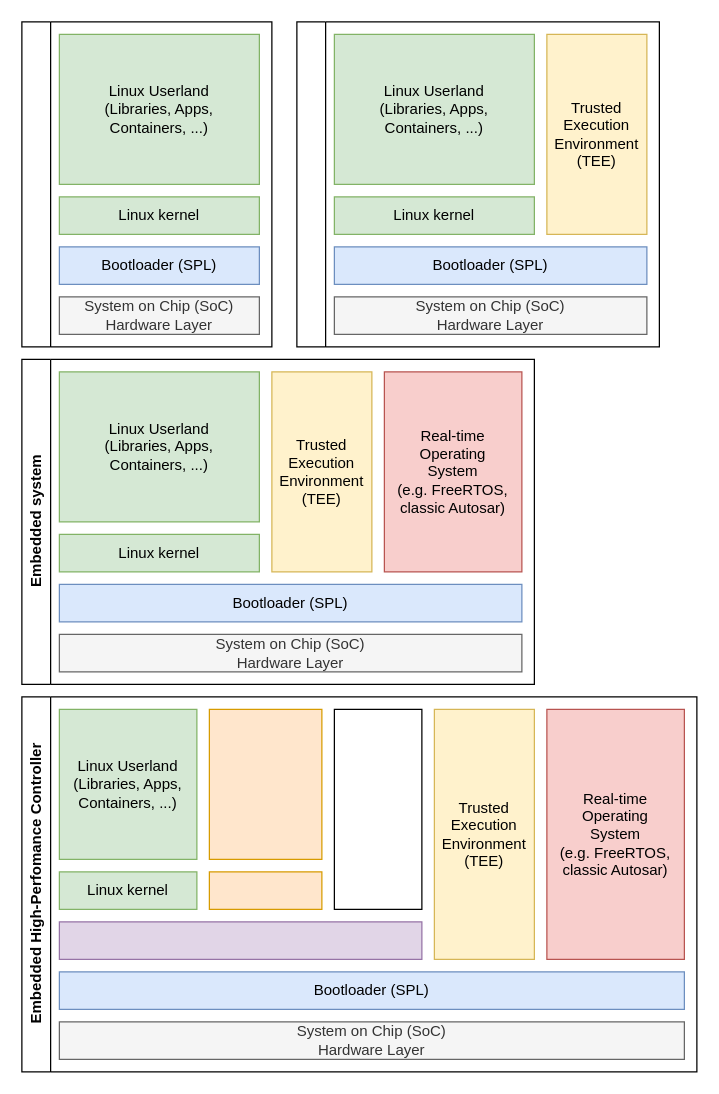
This 719x1094 diagram has some shape labels left out. The centre of each missing label's shape, as x and y in pixels:
"Andorid Userland" goes at pixel 265 783.
"Android kernel" goes at pixel 265 890.
"Hypervisor" goes at pixel 240 940.
"Other VMs" goes at pixel 377 808.
"Simple embedded system" goes at pixel 477 184.
"Very simple embedded system" goes at pixel 146 184.
